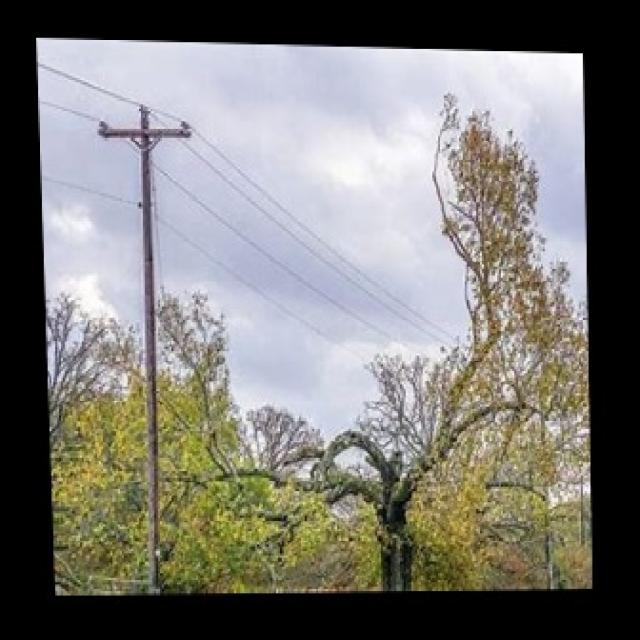utility poles: (90, 92, 196, 592)
